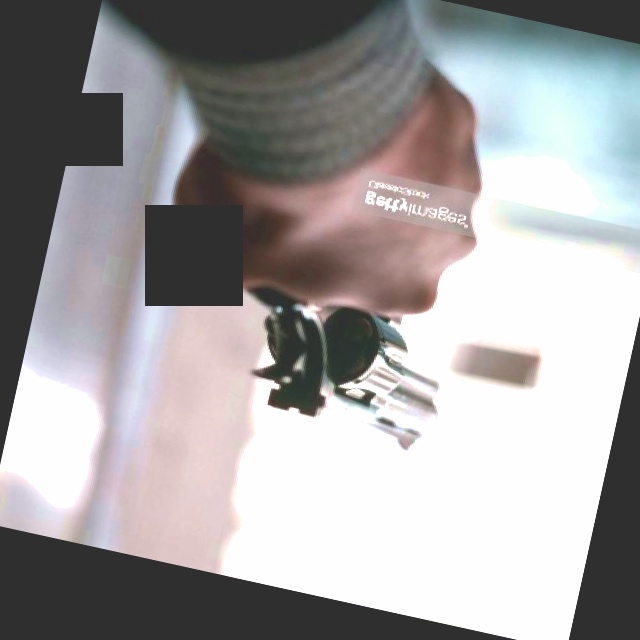gun: (236, 285, 462, 459)
